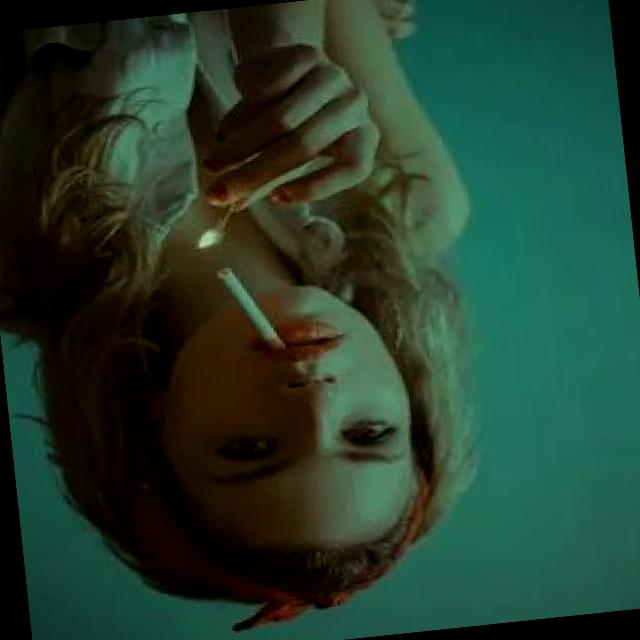smoke: (208, 254, 291, 361)
